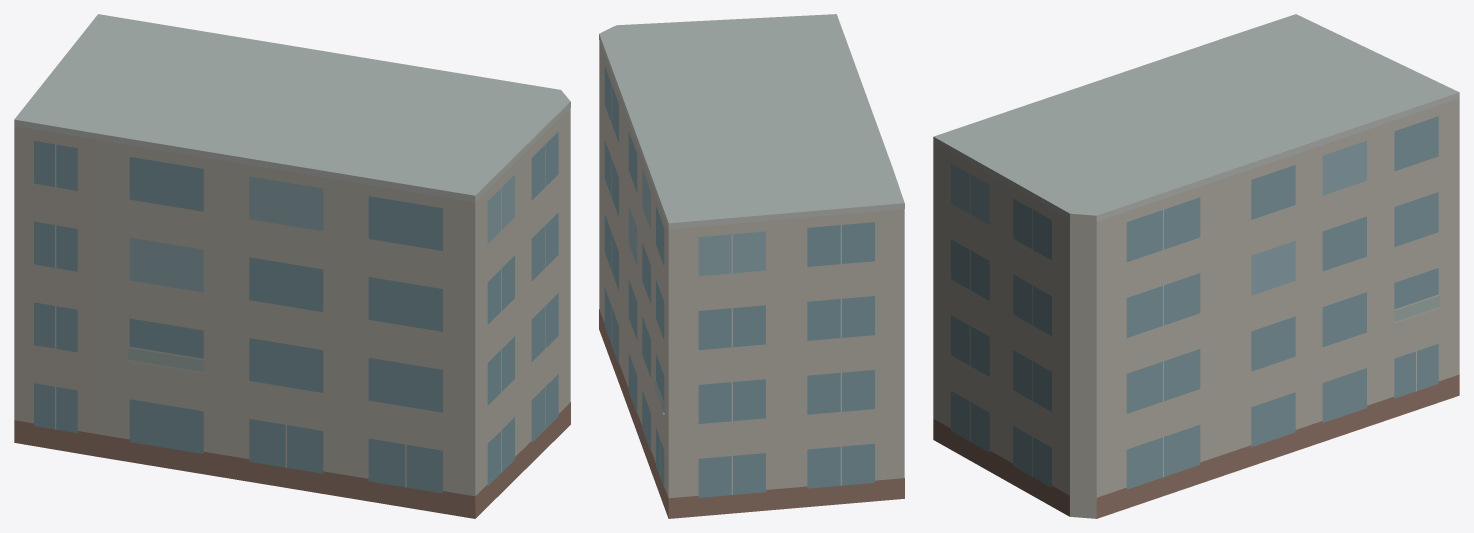
The model's file is survey-upis-32650149.glb.
The picture shows the model from 3 angles, left to right: view 1: azimuth 30°, elevation 25°; view 2: azimuth 150°, elevation 25°; view 3: azimuth 270°, elevation 25°; orthographic projection. The views are drawn at different scales.
Parts seen in each view (by area): view 1: survey-upis-32650149.tmp; view 2: survey-upis-32650149.tmp; view 3: survey-upis-32650149.tmp.
Part boxes in pixels (x1,y1,x2,y2): survey-upis-32650149.tmp: (14, 14, 570, 518); survey-upis-32650149.tmp: (599, 14, 904, 518); survey-upis-32650149.tmp: (933, 14, 1459, 518).
Bounding box in the file's own units: 17.41 × 12.2 × 19.2.
